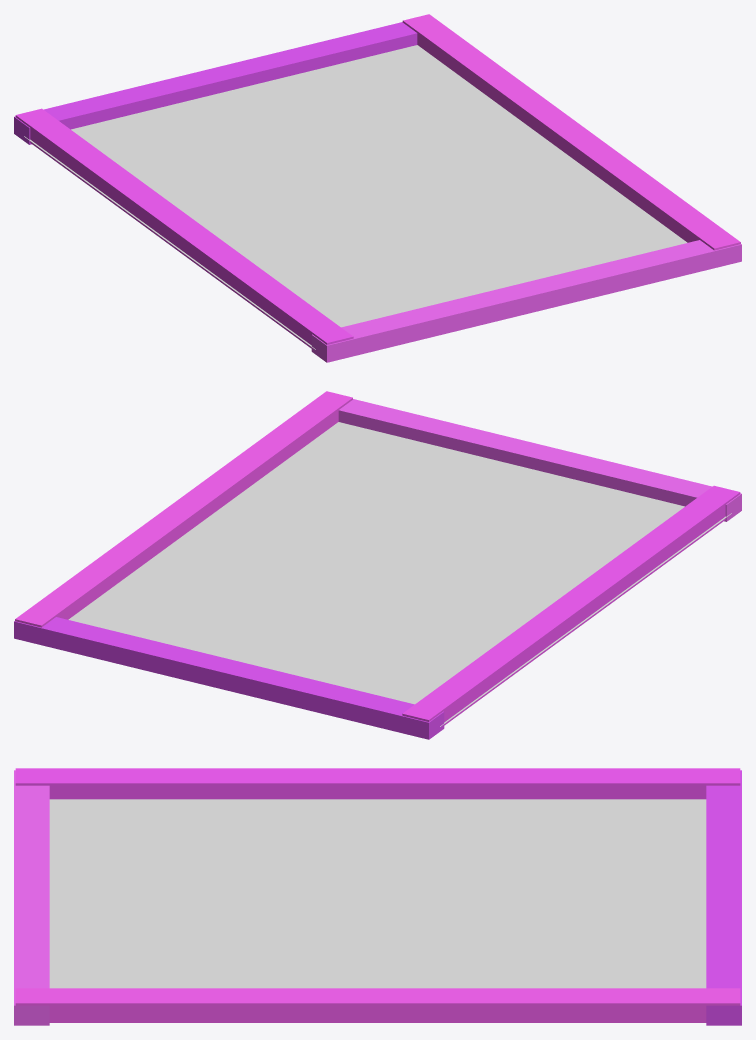
File: frame.6.fbx
3 views of the same model, one above another, from view 1: azimuth 30°, elevation 25°; view 2: azimuth 150°, elevation 25°; view 3: azimuth 270°, elevation 25° (orthographic). The views are drawn at different scales.
Parts seen in each view (by area): view 1: 平面, 立方体.003, 立方体.001, 立方体, 立方体.002; view 2: 平面, 立方体.002, 立方体.001, 立方体, 立方体.003; view 3: 平面, 立方体, 立方体.001, 立方体.002, 立方体.003.
Boxes of the visible parts, x1,y1,x2,y2 form: 平面: (24, 45, 687, 349); 立方体.003: (311, 240, 741, 362); 立方体.001: (15, 108, 353, 348); 立方体: (402, 14, 740, 250); 立方体.002: (14, 22, 417, 144); 平面: (68, 422, 731, 726); 立方体.002: (14, 617, 444, 739); 立方体.001: (402, 485, 740, 725); 立方体: (15, 391, 352, 627); 立方体.003: (338, 399, 741, 521); 平面: (49, 799, 706, 988); 立方体: (15, 988, 740, 1022); 立方体.001: (15, 768, 740, 799); 立方体.002: (706, 770, 741, 1025); 立方体.003: (14, 770, 49, 1025).
Bounding box in the file's own units: 231 × 10.1 × 301.
